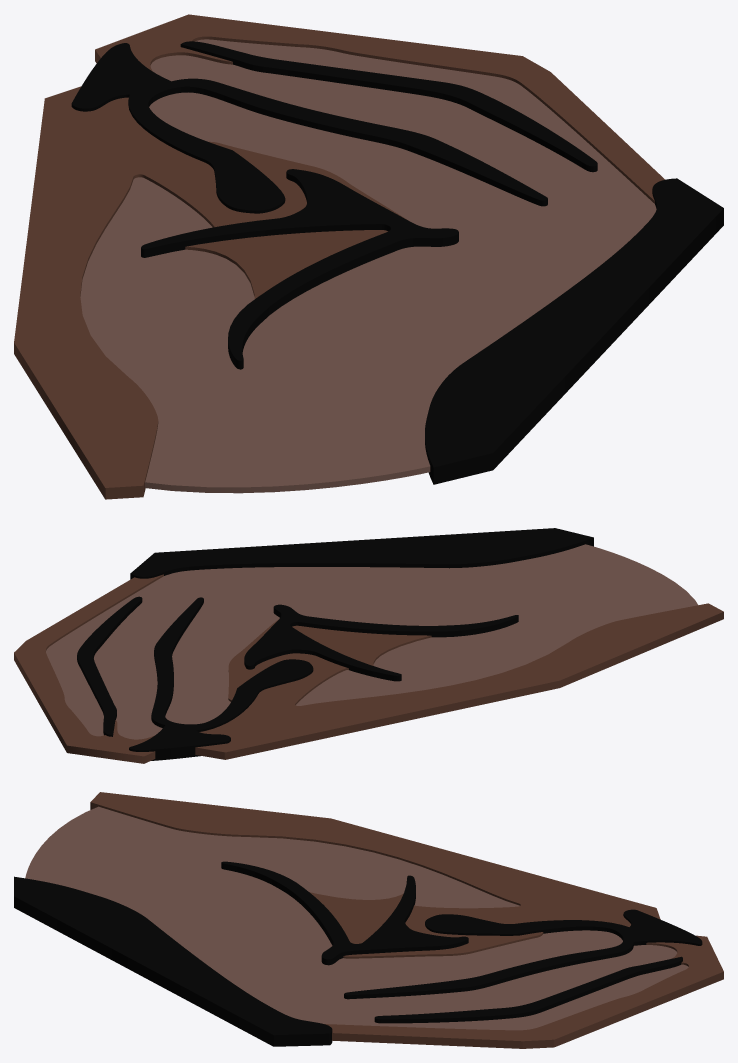
File: emoji_u1f90c_1f3ff.glb
The picture shows the model from 3 angles, top to bottom: view 1: azimuth 30°, elevation 25°; view 2: azimuth 150°, elevation 25°; view 3: azimuth 270°, elevation 25°; orthographic projection. The views are drawn at different scales.
Parts seen in each view (by area): view 1: emoji_u1f90c_1f3ff; view 2: emoji_u1f90c_1f3ff; view 3: emoji_u1f90c_1f3ff.
Boxes of the visible parts, x1=… form: emoji_u1f90c_1f3ff: x1=14, y1=14, x2=723, y2=499; emoji_u1f90c_1f3ff: x1=14, y1=528, x2=723, y2=763; emoji_u1f90c_1f3ff: x1=14, y1=792, x2=723, y2=1048.
Bounding box in the file's own units: 0.0276 × 0.0008 × 0.0333.
